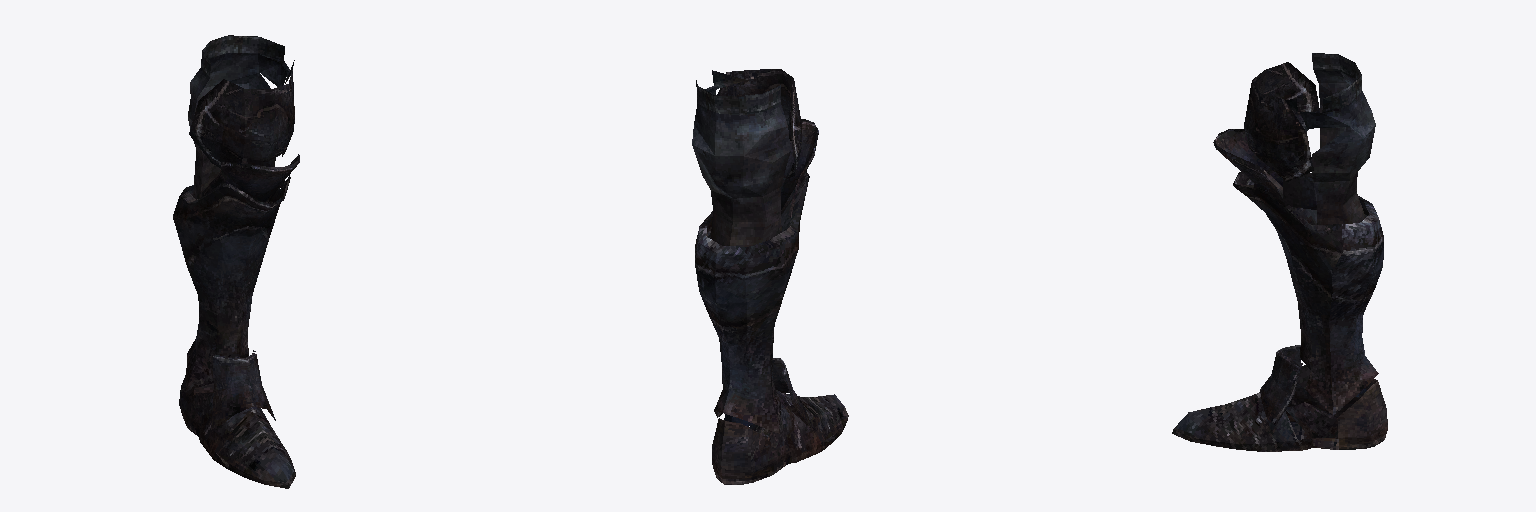
3 renders of one model, left to right at view 1: azimuth 30°, elevation 25°; view 2: azimuth 150°, elevation 25°; view 3: azimuth 270°, elevation 25°, orthographic.
Parts seen in each view (by area): view 1: Pierna_Derecha; view 2: Pierna_Derecha; view 3: Pierna_Derecha.
Part boxes in pixels (bbox=[...]): Pierna_Derecha: bbox=[173, 35, 299, 488]; Pierna_Derecha: bbox=[692, 69, 848, 484]; Pierna_Derecha: bbox=[1172, 53, 1387, 451].
Bounding box in the file's own units: 0.2465 × 0.8846 × 0.4575.
1 materials, 1 textured.